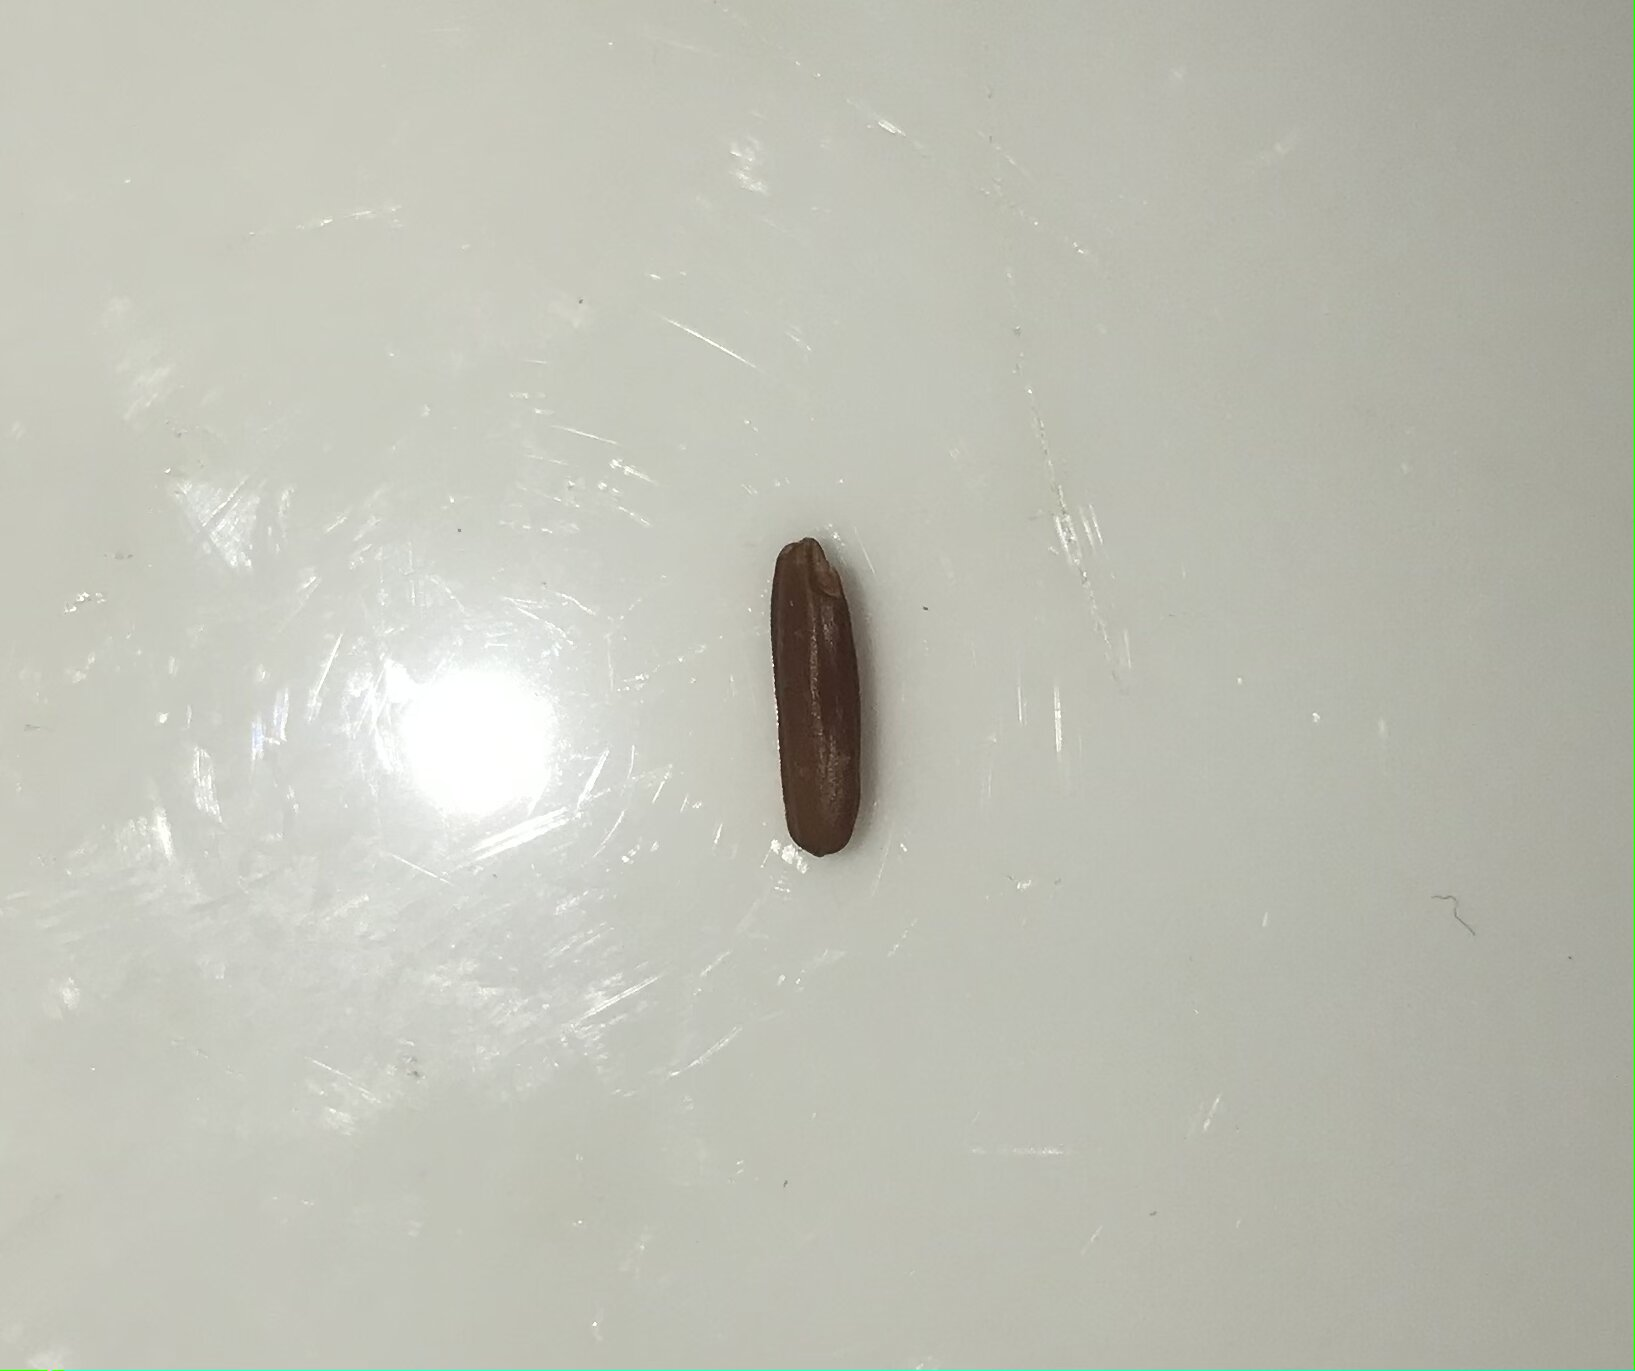Gao Huyet Rong: (749, 526, 887, 873)
